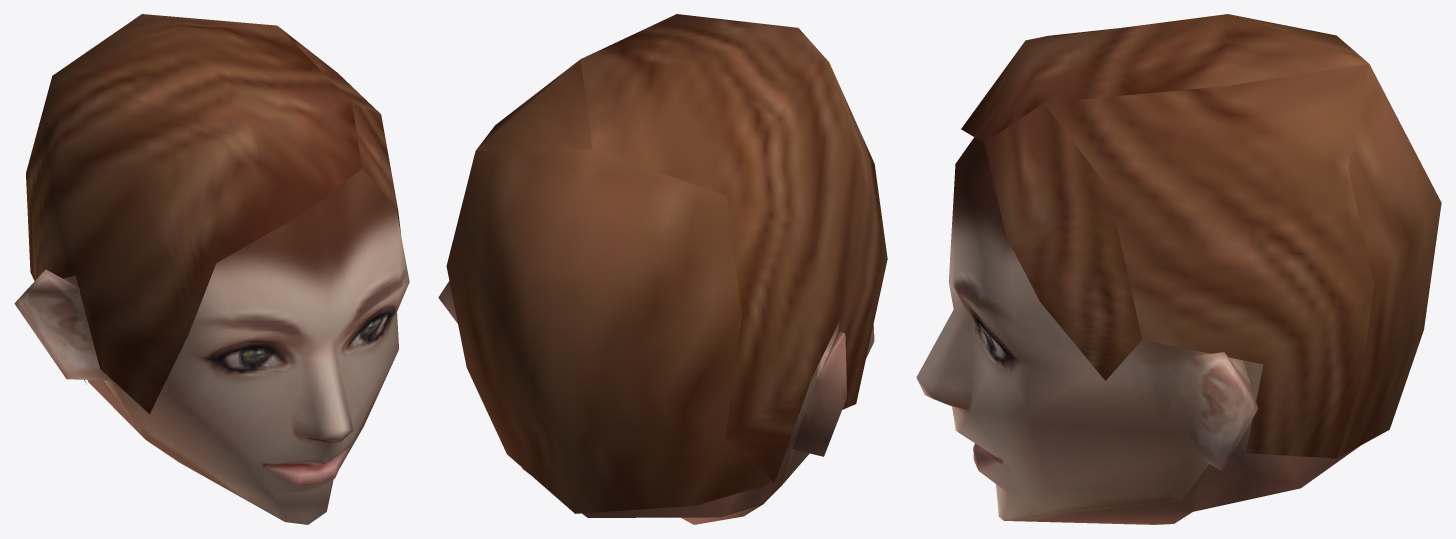
Rendered from Human_Female_face_Helmet_mesh.FBX.
3 views of the same model, side by side, from view 1: azimuth 30°, elevation 25°; view 2: azimuth 150°, elevation 25°; view 3: azimuth 270°, elevation 25° (orthographic). The views are drawn at different scales.
Parts seen in each view (by area): view 1: HumanFemale_Face_helmet; view 2: HumanFemale_Face_helmet; view 3: HumanFemale_Face_helmet.
Part boxes in pixels (box(x1,y1,x2,y2)): HumanFemale_Face_helmet: box(14, 14, 409, 524); HumanFemale_Face_helmet: box(438, 14, 887, 524); HumanFemale_Face_helmet: box(916, 14, 1441, 524).
Bounding box in the file's own units: 17 × 19.57 × 18.73.
